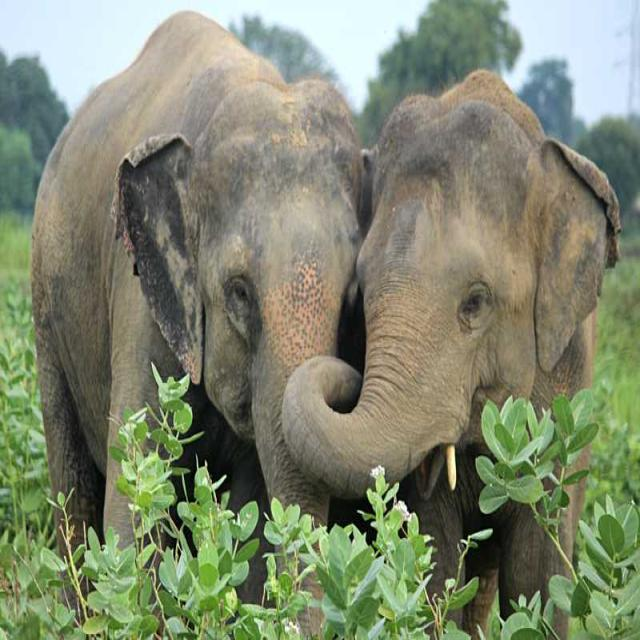Elephant: (37, 11, 359, 584), (283, 76, 618, 615)
